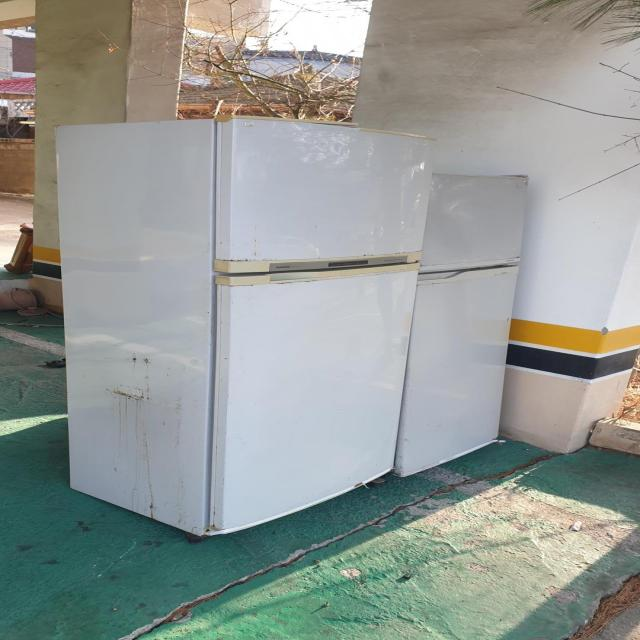refrigerator: (52, 114, 439, 539)
